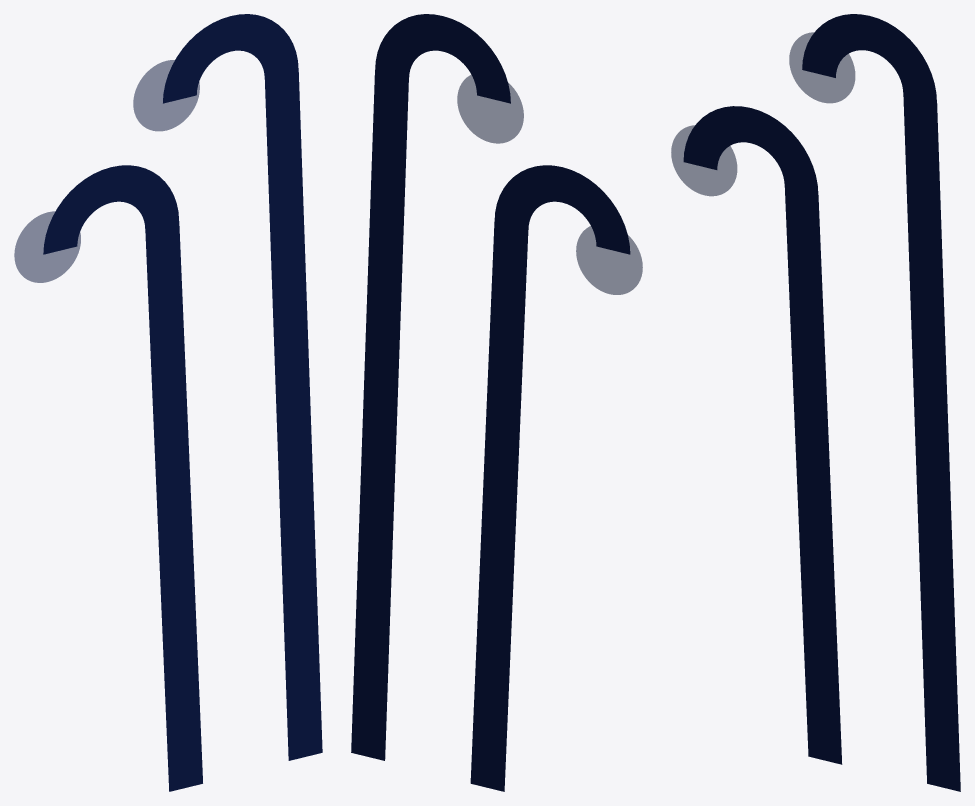
The model's file is plante.gltf.
3 views of the same model, side by side, from view 1: azimuth 30°, elevation 25°; view 2: azimuth 150°, elevation 25°; view 3: azimuth 330°, elevation 25° (orthographic).
Parts seen in each view (by area): view 1: Curve.074; view 2: Curve.074; view 3: Curve.074.
Part boxes in pixels (x1,y1,x2,y2): Curve.074: [14, 14, 322, 791]; Curve.074: [351, 14, 642, 791]; Curve.074: [671, 14, 960, 791].
Bounding box in the file's own units: 0.0145 × 0.035 × 0.000691.
